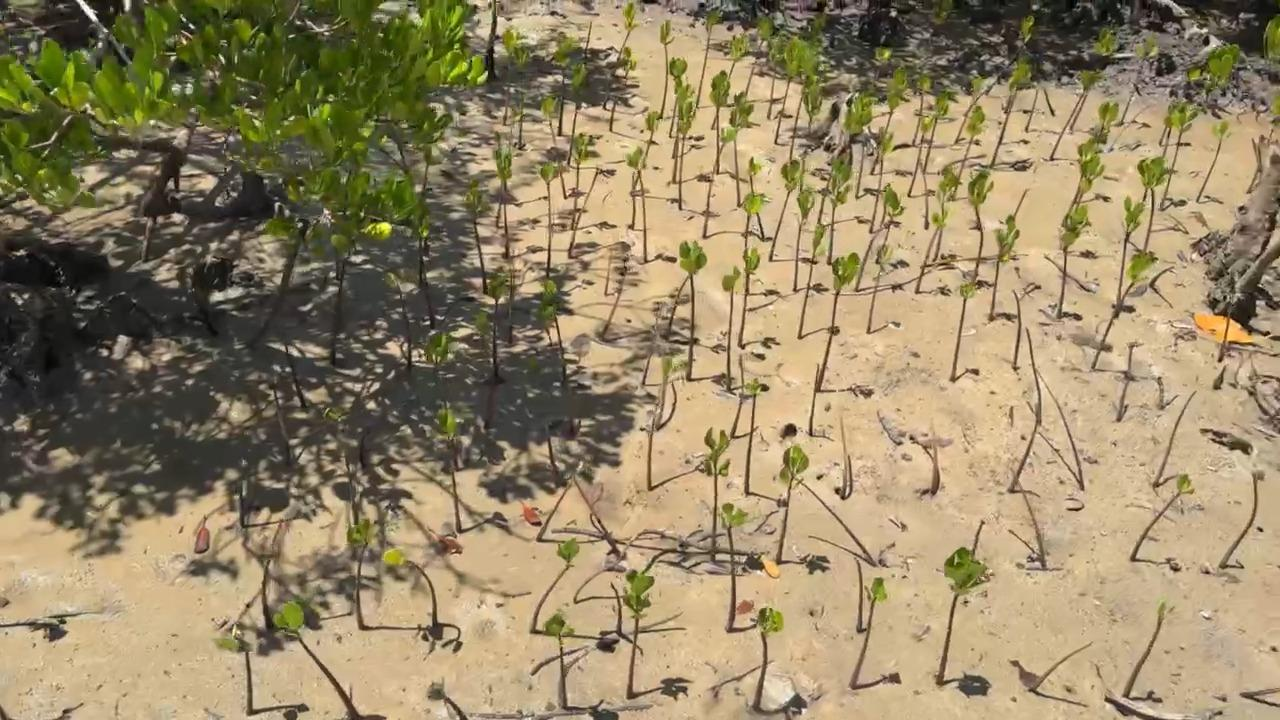Tree: (273, 602, 358, 720), (1092, 250, 1158, 369), (935, 547, 988, 687), (817, 251, 863, 391), (1037, 370, 1085, 490), (1131, 474, 1193, 562), (1070, 28, 1121, 133), (691, 426, 730, 559), (1122, 602, 1174, 698), (382, 546, 439, 633), (989, 60, 1033, 168), (647, 358, 682, 491), (530, 537, 579, 632), (567, 163, 616, 257), (1050, 71, 1101, 161), (849, 575, 888, 690), (856, 197, 903, 292), (1154, 389, 1199, 488), (623, 569, 656, 698), (679, 240, 708, 385), (775, 445, 810, 562), (984, 16, 1035, 96), (702, 124, 737, 236), (1010, 467, 1048, 570), (1161, 105, 1199, 207), (712, 93, 759, 174), (1057, 203, 1090, 318), (1220, 472, 1259, 569), (788, 47, 820, 164), (1062, 137, 1104, 226), (213, 624, 254, 715), (1115, 194, 1147, 308), (436, 406, 464, 534), (325, 407, 356, 522), (575, 480, 620, 558), (347, 520, 379, 629), (720, 503, 747, 631), (770, 160, 804, 261), (1031, 641, 1095, 694), (1119, 39, 1159, 123), (751, 607, 783, 710), (774, 37, 804, 146), (1137, 155, 1171, 251), (966, 166, 994, 282), (798, 222, 826, 335), (914, 210, 950, 295), (990, 214, 1019, 319), (869, 125, 897, 232), (540, 97, 569, 200), (953, 106, 987, 192), (1196, 121, 1231, 204), (544, 615, 575, 708), (385, 272, 414, 371), (742, 379, 767, 493), (1009, 403, 1040, 493), (411, 217, 436, 328), (827, 160, 854, 262), (463, 191, 489, 296), (721, 267, 743, 390), (541, 281, 567, 385), (741, 194, 768, 294), (949, 284, 976, 382), (626, 147, 649, 261), (695, 9, 722, 105), (867, 242, 895, 334), (571, 133, 598, 227), (800, 83, 823, 192), (744, 16, 774, 99), (936, 163, 961, 262), (792, 188, 816, 291), (608, 48, 638, 129), (477, 313, 498, 428), (537, 164, 558, 279), (536, 480, 574, 543), (327, 263, 349, 368), (922, 91, 950, 173), (502, 25, 525, 124), (671, 85, 694, 183), (738, 247, 760, 349), (710, 70, 732, 171), (557, 35, 579, 134), (876, 187, 905, 261), (907, 115, 933, 197), (676, 100, 695, 210), (844, 94, 875, 161), (954, 77, 985, 143), (490, 267, 508, 377), (602, 47, 632, 108), (817, 152, 842, 223), (1073, 157, 1105, 211), (671, 85, 694, 160), (496, 156, 513, 257), (273, 386, 295, 463), (659, 19, 676, 118), (668, 56, 689, 136), (767, 35, 787, 119), (745, 157, 765, 240), (1027, 326, 1044, 423), (1117, 344, 1138, 422), (600, 276, 626, 338), (426, 332, 448, 403), (427, 681, 467, 720), (285, 344, 309, 408), (886, 66, 909, 132), (617, 2, 643, 60), (667, 274, 690, 338), (570, 66, 590, 137), (496, 144, 512, 226), (913, 75, 932, 144), (1162, 100, 1183, 159), (643, 112, 663, 166), (262, 559, 276, 629), (729, 34, 750, 80), (838, 416, 849, 499), (1011, 289, 1022, 368), (1217, 309, 1234, 360), (808, 363, 820, 435), (1097, 99, 1120, 136), (610, 581, 624, 634), (855, 557, 865, 631), (919, 162, 930, 228), (1024, 87, 1040, 131), (728, 394, 744, 437), (876, 47, 893, 82), (931, 438, 941, 496), (971, 520, 985, 561), (1013, 187, 1029, 222), (237, 474, 247, 526), (642, 351, 656, 387), (631, 171, 638, 228), (1241, 688, 1280, 698), (604, 254, 613, 297), (546, 425, 555, 467), (583, 22, 593, 59), (518, 99, 525, 146), (1045, 88, 1057, 114)
